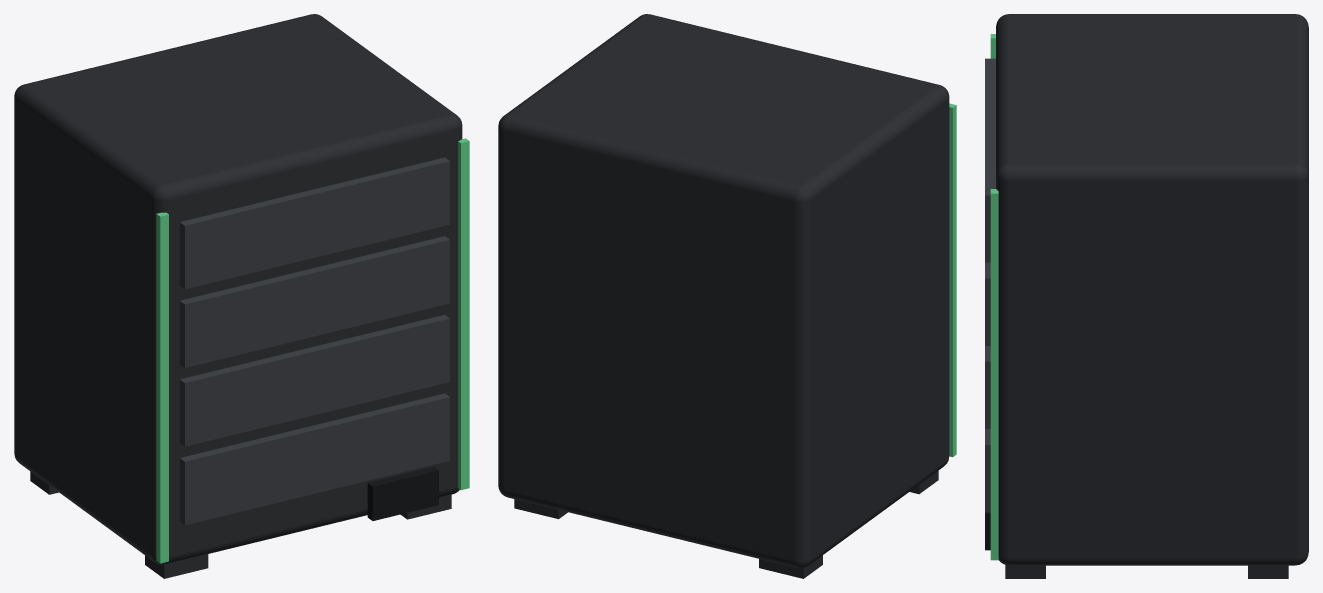
The model's file is nas.glb.
3 views of the same model, side by side, from view 1: azimuth 30°, elevation 25°; view 2: azimuth 150°, elevation 25°; view 3: azimuth 270°, elevation 25° (orthographic). The views are drawn at different scales.
Visible parts, largest first — view 1: material-0-body, material-1-drawer, material-3-lit, material-2-screen; view 2: material-0-body, material-3-lit; view 3: material-0-body, material-3-lit, material-1-drawer.
Boxes of the visible parts, box(x1,y1,x2,y2) form: material-0-body: box(14, 14, 462, 578); material-1-drawer: box(179, 157, 449, 525); material-3-lit: box(156, 138, 469, 563); material-2-screen: box(367, 466, 438, 520); material-0-body: box(498, 14, 949, 578); material-3-lit: box(949, 103, 956, 457); material-0-body: box(996, 14, 1308, 578); material-3-lit: box(990, 34, 998, 560); material-1-drawer: box(985, 58, 995, 512).
Size of the model in its own units: 0.28 by 0.34 by 0.24.
